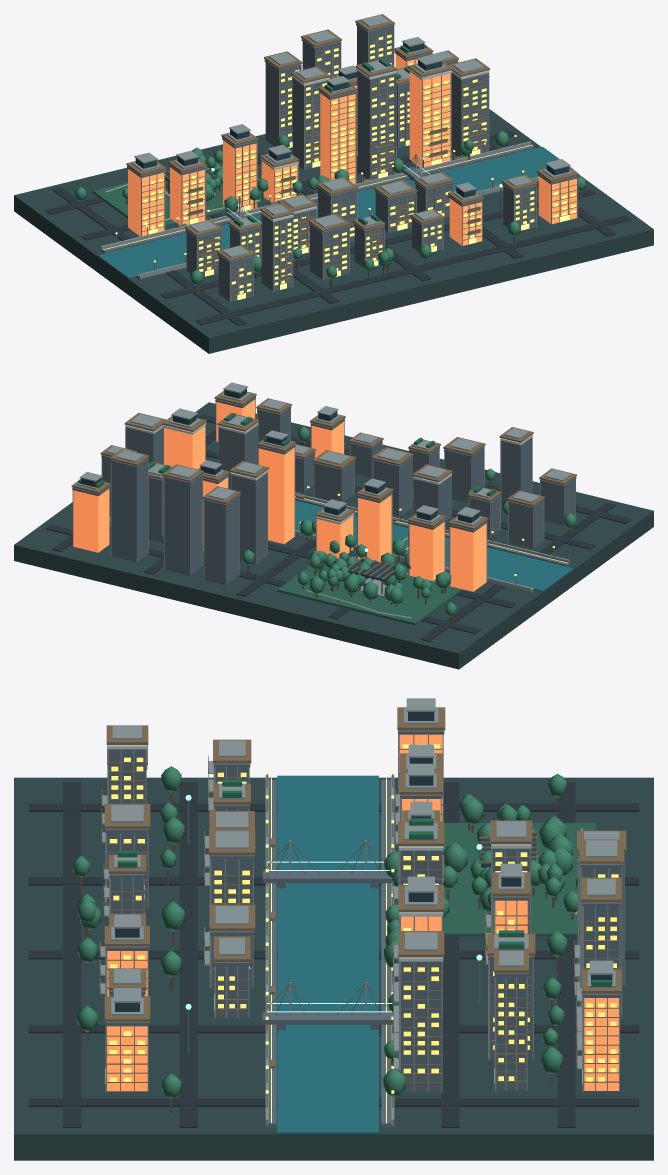
Rendered from heat.glb.
The picture shows the model from 3 angles, top to bottom: view 1: azimuth 30°, elevation 25°; view 2: azimuth 150°, elevation 25°; view 3: azimuth 270°, elevation 25°; orthographic projection. The views are drawn at different scales.
Visible parts, largest first — view 1: District foundation, Detail_Detail architectural limestone, Detail_Detail brushed bronze, River corridor, Building_20, Building_24, Avenue, Building_15, Building_28, Building_03, Building_16, Building_17 (+28 smaller); view 2: District foundation, Detail_Detail architectural limestone, Detail_Detail brushed bronze, Riverside park, Building_22, Building_26, River corridor, Building_17, Building_15, Building_16, Building_03, Building_30 (+29 smaller); view 3: District foundation, River corridor, Detail_Detail architectural limestone, Detail_Detail brushed bronze, Riverside park, Avenue, Avenue.001, Building_28, Cross street.004, Avenue.002, Avenue.003, Building_29 (+25 smaller).
Boxes of the visible parts, x1=… form: District foundation: x1=14, y1=109, x2=653, y2=353; Detail_Detail architectural limestone: x1=100, y1=15, x2=578, y2=302; Detail_Detail brushed bronze: x1=116, y1=14, x2=578, y2=296; River corridor: x1=97, y1=146, x2=573, y2=278; Building_20: x1=357, y1=71, x2=395, y2=179; Building_24: x1=409, y1=71, x2=450, y2=167; Avenue: x1=196, y1=215, x2=631, y2=324; Building_15: x1=320, y1=93, x2=355, y2=183; Building_28: x1=451, y1=73, x2=488, y2=157; Building_03: x1=128, y1=169, x2=164, y2=236; Building_16: x1=292, y1=78, x2=327, y2=169; Building_17: x1=265, y1=62, x2=300, y2=146; District foundation: x1=14, y1=402, x2=653, y2=669; Detail_Detail architectural limestone: x1=72, y1=382, x2=575, y2=597; Detail_Detail brushed bronze: x1=71, y1=390, x2=576, y2=593; Riverside park: x1=277, y1=555, x2=463, y2=625; Building_22: x1=164, y1=476, x2=202, y2=575; Building_26: x1=111, y1=461, x2=147, y2=562; River corridor: x1=295, y1=500, x2=573, y2=591; Building_17: x1=204, y1=497, x2=239, y2=584; Building_15: x1=258, y1=447, x2=294, y2=544; Building_16: x1=231, y1=473, x2=267, y2=564; Building_03: x1=450, y1=523, x2=486, y2=591; Building_30: x1=73, y1=489, x2=109, y2=552; District foundation: x1=14, y1=777, x2=653, y2=1160; River corridor: x1=277, y1=775, x2=378, y2=1134; Detail_Detail architectural limestone: x1=100, y1=698, x2=624, y2=1125; Detail_Detail brushed bronze: x1=99, y1=707, x2=626, y2=1107; Riverside park: x1=443, y1=823, x2=595, y2=937; Avenue: x1=63, y1=782, x2=81, y2=1127; Avenue.001: x1=179, y1=782, x2=197, y2=1127; Building_28: x1=401, y1=961, x2=441, y2=1091; Cross street.004: x1=28, y1=1098, x2=639, y2=1106; Avenue.002: x1=441, y1=782, x2=459, y2=1127; Avenue.003: x1=557, y1=782, x2=575, y2=1127; Building_29: x1=496, y1=977, x2=526, y2=1090.
Size of the model in its own units: 29 by 8 by 22.
